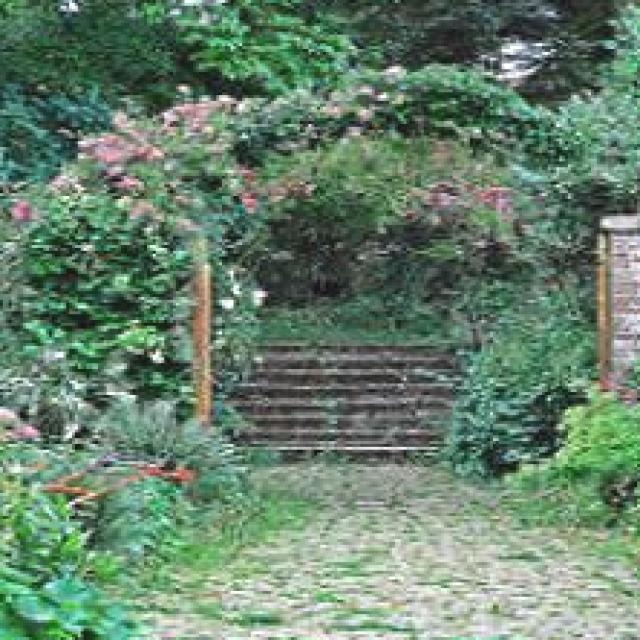upstair: (203, 307, 482, 474)
